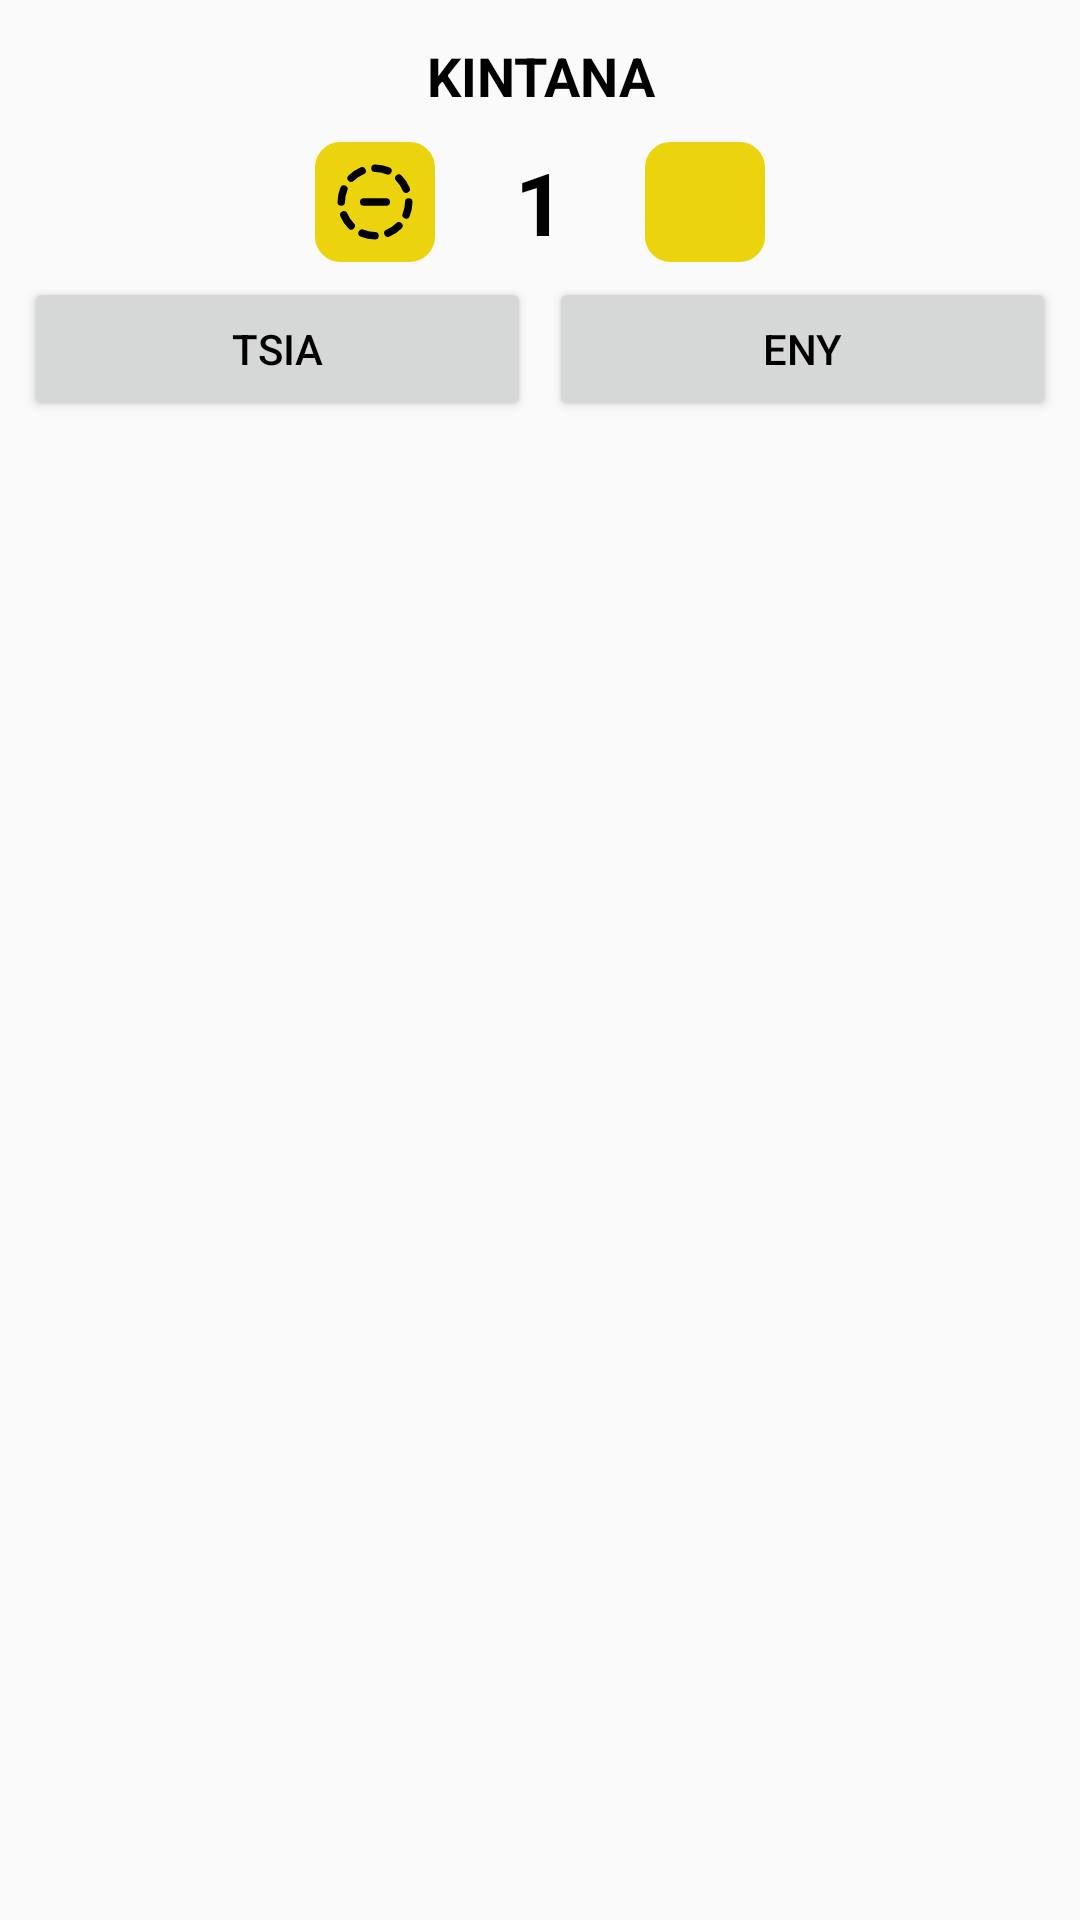

Icons on this 1080 x 1920 Android screen, each with its box as box=[x1, y1, x2, y2]:
circle dashed minus: box=[315, 142, 435, 262]
